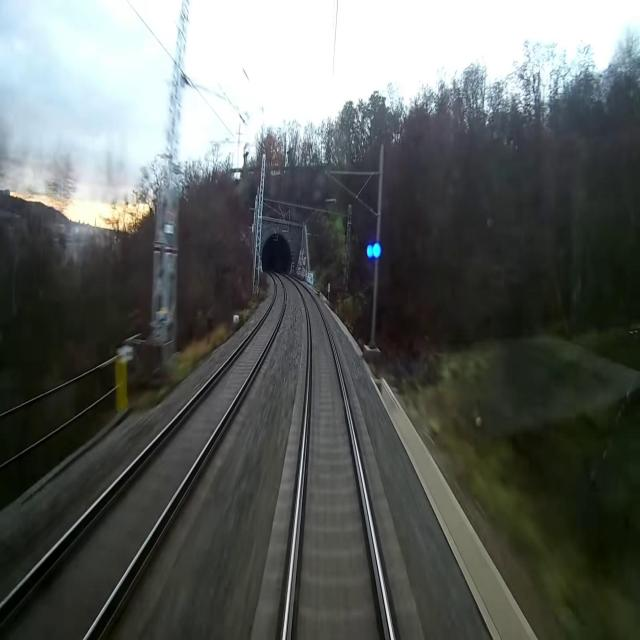rail-track: (0, 272, 284, 639), (287, 277, 390, 639)
